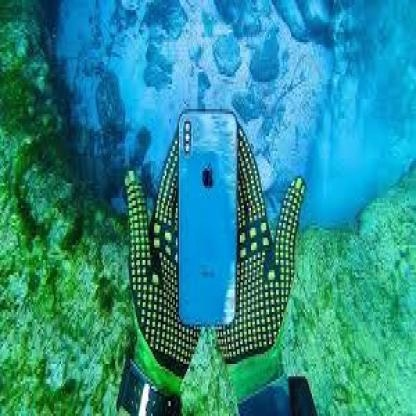cellphone: (177, 104, 240, 327)
